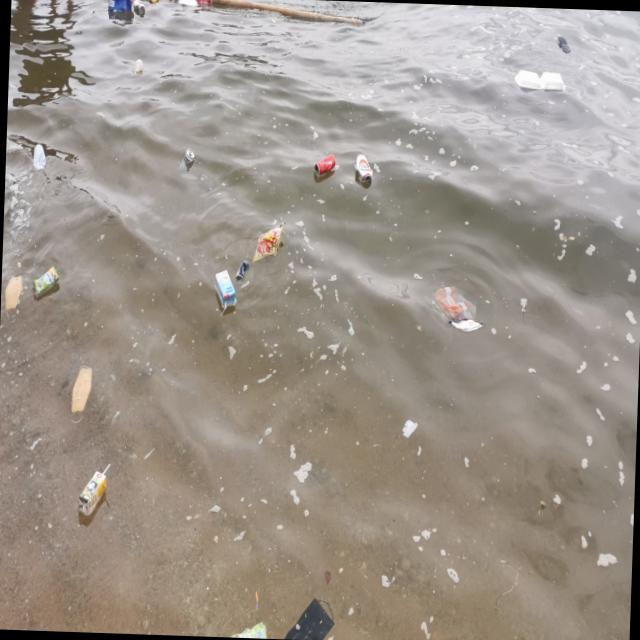can: (354, 152, 374, 184), (314, 152, 336, 175), (32, 144, 46, 172), (178, 148, 194, 170), (234, 260, 249, 282), (133, 0, 145, 13), (147, 0, 159, 3), (158, 0, 174, 2)
foam: (514, 69, 566, 90), (177, 0, 197, 6)
plastic bottle: (431, 284, 476, 322), (252, 220, 283, 264)
unknow: (282, 595, 336, 640), (76, 461, 111, 516), (70, 363, 92, 422), (212, 270, 236, 316), (2, 275, 22, 324), (32, 265, 58, 296), (228, 620, 266, 638), (448, 318, 483, 330), (107, 0, 132, 12), (556, 35, 571, 53), (134, 58, 144, 74), (198, 0, 212, 5)
